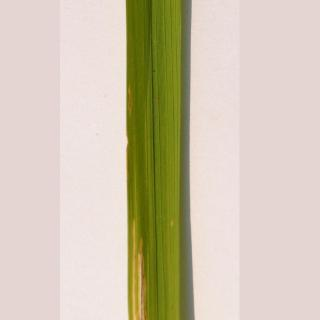Hawar-Daun: (120, 207, 168, 320), (124, 80, 143, 126)
